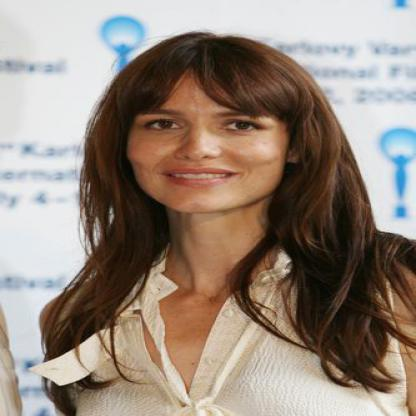long-hair: (74, 210, 372, 273)
